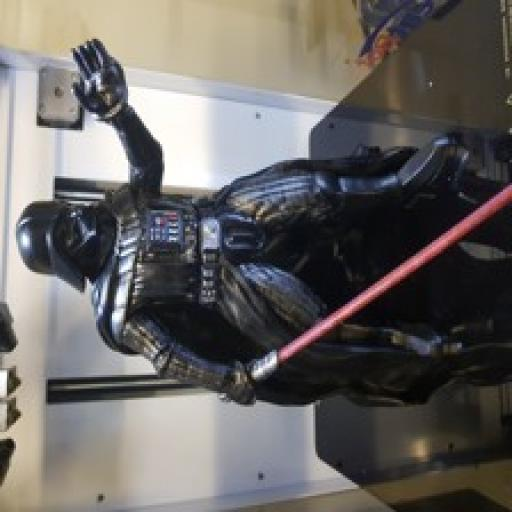human: (17, 36, 512, 380)
sith saber: (218, 179, 510, 403)
